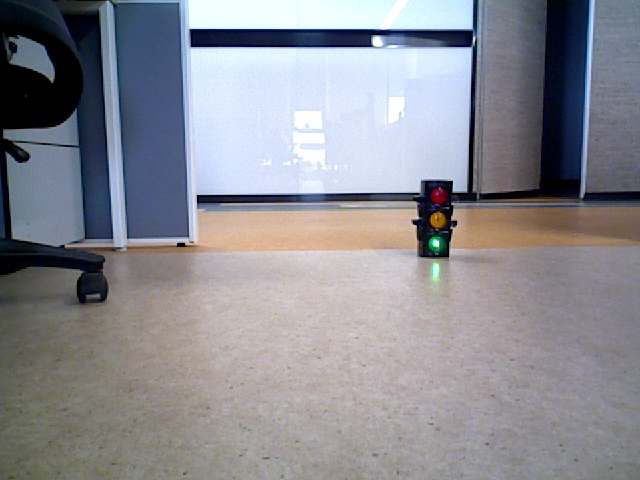green: (419, 178, 450, 255)
